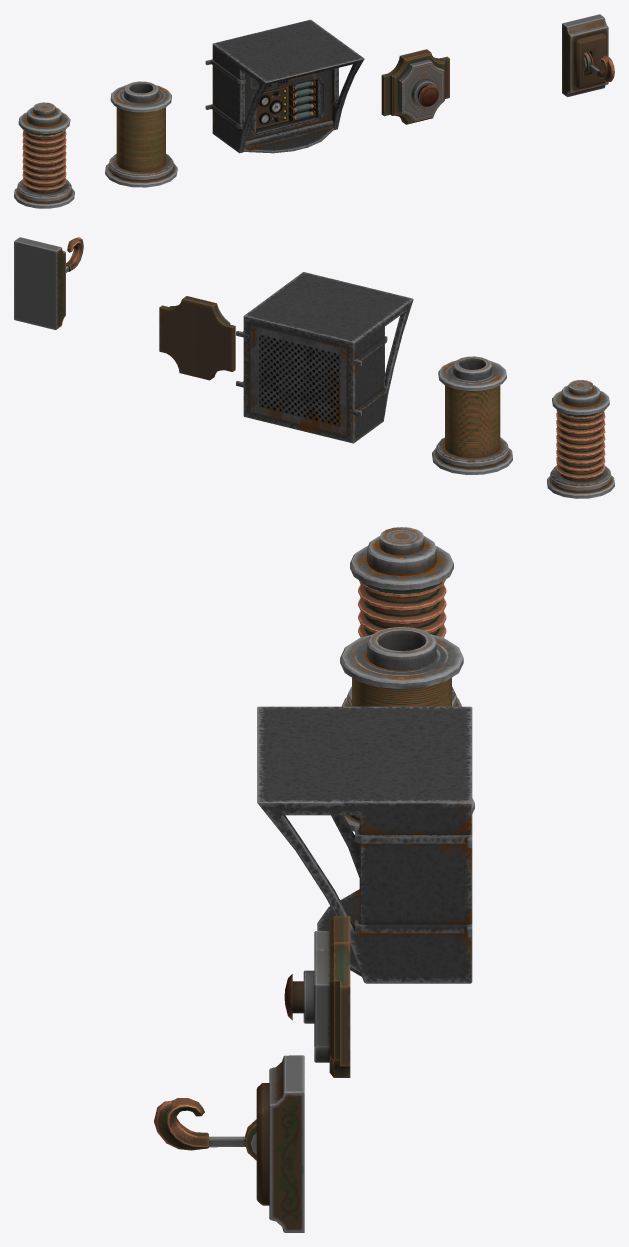
File: LaboratoryEquipment_el3.FBX
3 views of the same model, one above another, from view 1: azimuth 30°, elevation 25°; view 2: azimuth 150°, elevation 25°; view 3: azimuth 270°, elevation 25° (orthographic). The views are drawn at different scales.
Parts seen in each view (by area): view 1: Object102, Object103, Object104, Object107, Object106, Object105, Object108; view 2: Object102, Object103, Object104, Object107, Object106, Object105; view 3: Object102, Object104, Object103, Object106, Object107, Object105.
Boxes of the visible parts, left/top/right/bottom form: Object102: left=205, top=19, right=364, bottom=153; Object103: left=105, top=81, right=177, bottom=187; Object104: left=14, top=102, right=74, bottom=208; Object107: left=381, top=49, right=449, bottom=124; Object106: left=562, top=14, right=608, bottom=96; Object105: left=584, top=52, right=614, bottom=82; Object108: left=418, top=85, right=438, bottom=106; Object102: left=236, top=272, right=413, bottom=443; Object103: left=432, top=356, right=512, bottom=474; Object104: left=547, top=380, right=614, bottom=498; Object107: left=159, top=296, right=235, bottom=380; Object106: left=14, top=237, right=65, bottom=329; Object105: left=66, top=237, right=83, bottom=272; Object102: left=257, top=706, right=472, bottom=983; Object104: left=341, top=527, right=462, bottom=706; Object103: left=340, top=627, right=474, bottom=831; Object106: left=256, top=1055, right=304, bottom=1232; Object107: left=303, top=916, right=350, bottom=1077; Object105: left=154, top=1098, right=256, bottom=1160.
Bounding box in the file's own units: 376 × 61.31 × 93.76.
Materials: 2 (2 with a texture image).
